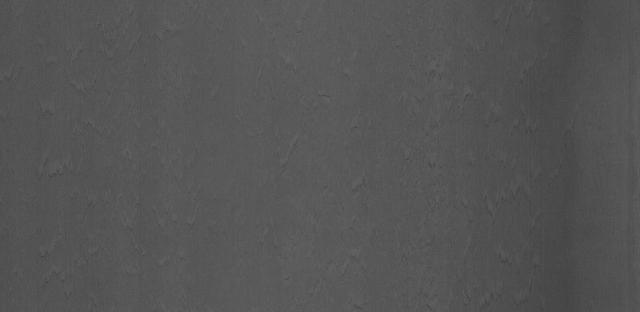silk_spot: (401, 150, 550, 244), (384, 46, 503, 136)
